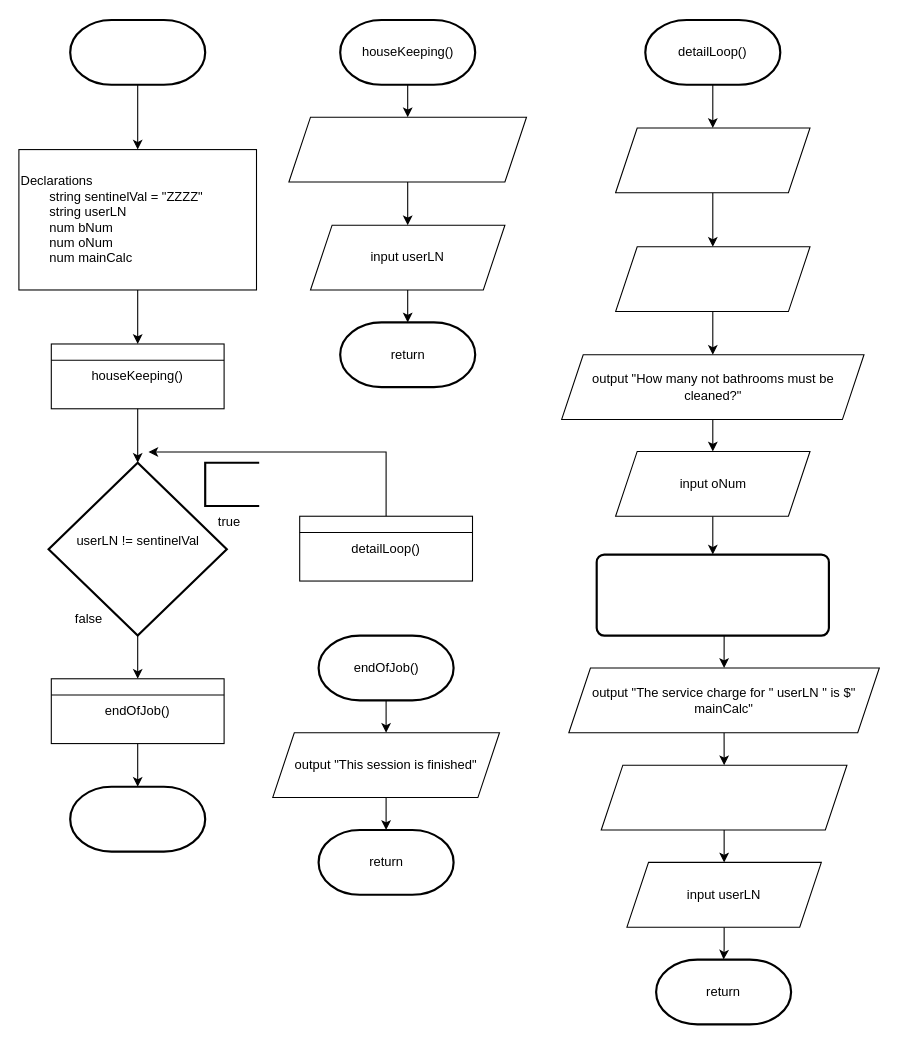
This 899x1043 diagram has some shape labels left out. The centre of each missing label's shape, as x and y in pixels:
// != means "not equal to": (232,484)
end: (137,818)
input bNum: (712,279)
mainCalc = (15(bNum)+10(oNum))+40: (712,594)
output "How many Bathrooms are to be cleaned?": (712,160)
output "What is the next last Name?": (723,797)
output "What is your last Name?": (407,149)
start: (137,51)
